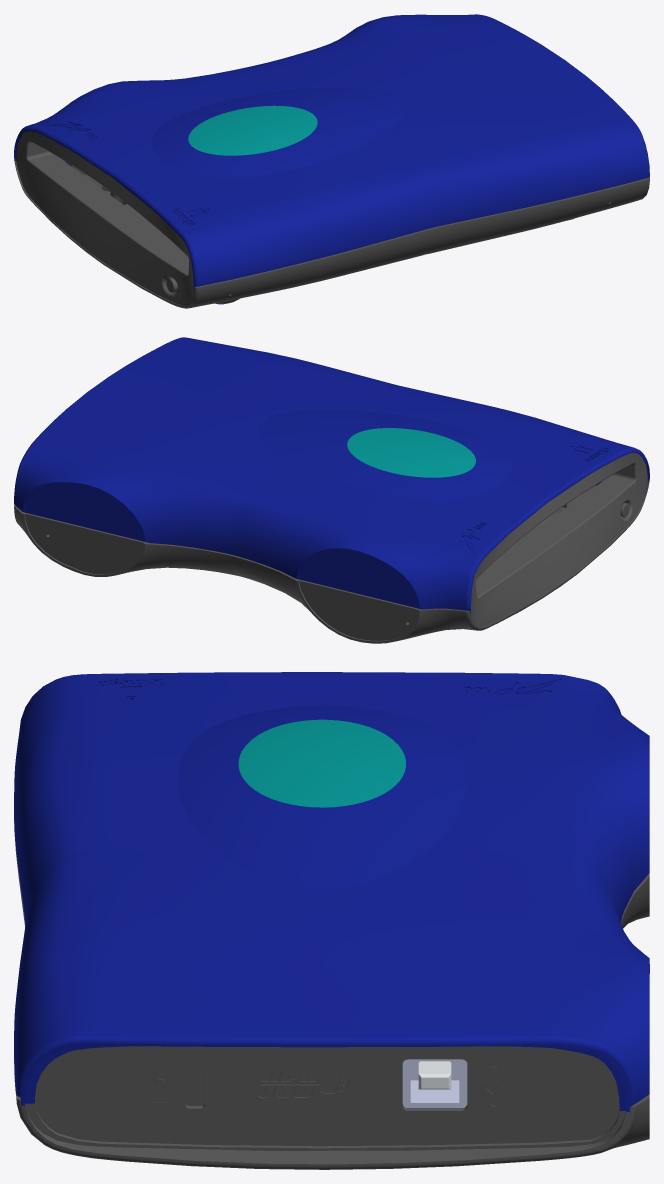
File: disk drive.fbx
3 renders of one model, top to bottom at view 1: azimuth 30°, elevation 25°; view 2: azimuth 150°, elevation 25°; view 3: azimuth 270°, elevation 25°, orthographic. The views are drawn at different scales.
Parts seen in each view (by area): view 1: CoverExtVUSBZip-1-solid1, Value100FrontFace-1-solid1, BaseExtVUSBZip-1-solid1, CoverExtVUSBZip-1-solid2; view 2: CoverExtVUSBZip-1-solid1, BaseExtVUSBZip-1-solid1, Value100FrontFace-1-solid1, CoverExtVUSBZip-1-solid2; view 3: CoverExtVUSBZip-1-solid1, BaseExtVUSBZip-1-solid1, CoverExtVUSBZip-1-solid2, UsbConVUSB-1-solid1.
Part boxes in pixels (left/top/right/bottom): CoverExtVUSBZip-1-solid1: left=14, top=14, right=649, bottom=290; Value100FrontFace-1-solid1: left=16, top=131, right=193, bottom=304; BaseExtVUSBZip-1-solid1: left=14, top=157, right=649, bottom=308; CoverExtVUSBZip-1-solid2: left=188, top=105, right=317, bottom=155; CoverExtVUSBZip-1-solid1: left=14, top=337, right=649, bottom=613; BaseExtVUSBZip-1-solid1: left=14, top=478, right=649, bottom=643; Value100FrontFace-1-solid1: left=471, top=453, right=647, bottom=627; CoverExtVUSBZip-1-solid2: left=347, top=428, right=475, bottom=477; CoverExtVUSBZip-1-solid1: left=14, top=672, right=649, bottom=1112; BaseExtVUSBZip-1-solid1: left=14, top=820, right=649, bottom=1169; CoverExtVUSBZip-1-solid2: left=238, top=719, right=405, bottom=807; UsbConVUSB-1-solid1: left=402, top=1059, right=467, bottom=1107.
Bounding box in the file's own units: 6.66 × 1.47 × 4.63.
